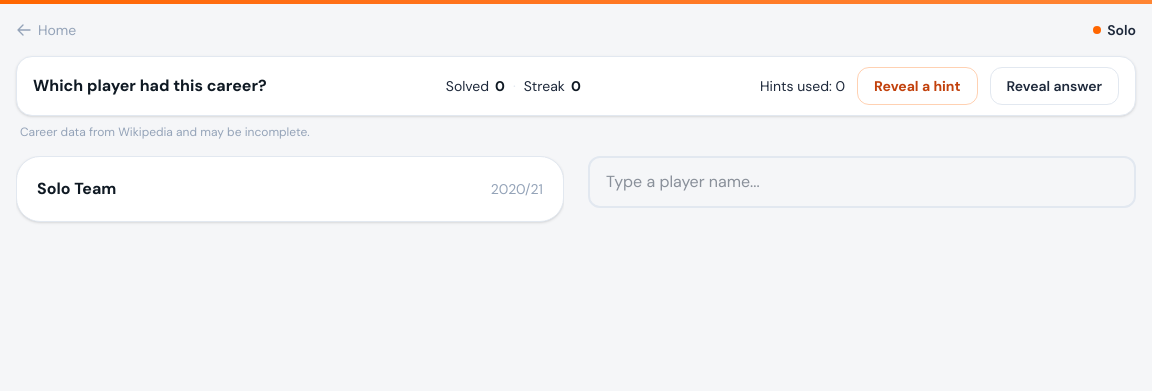
Test case: CareerQuizBoard multiplayer reveals › clears the solo wrong-guess banner when the answer is revealed
Type "Solo Miss" into the field with placeholder "Type a player name..." at (862, 182), box [588,156,1136,208]
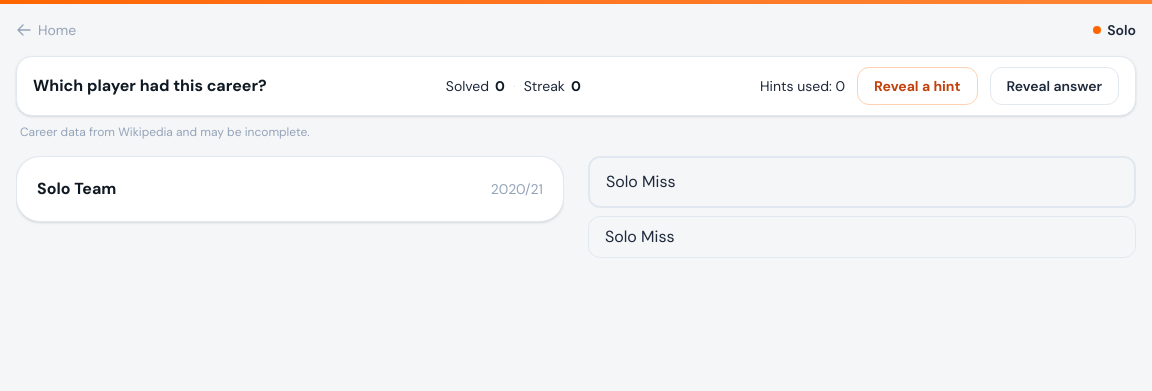
Click the button "Solo Miss" at (640, 236), box [589,217,1135,257]
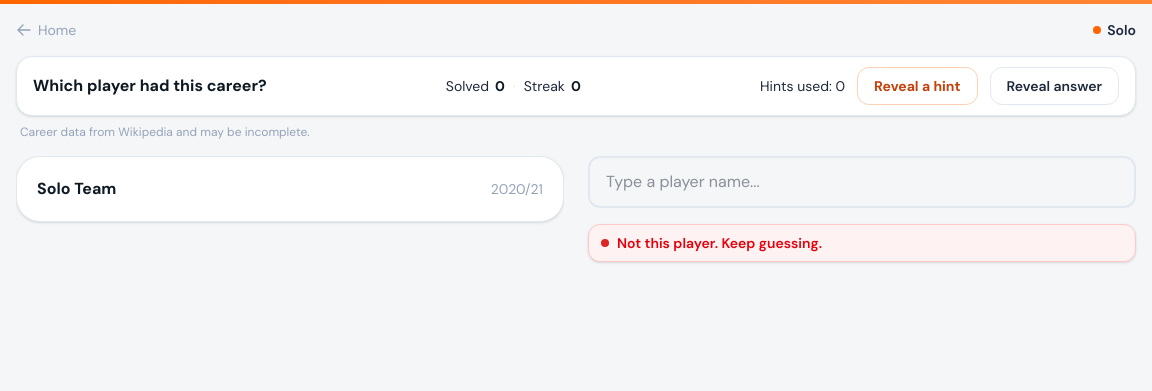
Now the text "Not this player. Keep guessing." is shown, box [617,233,822,253]
Click the button "Reveal answer" at (1054, 86), box [990,67,1119,105]
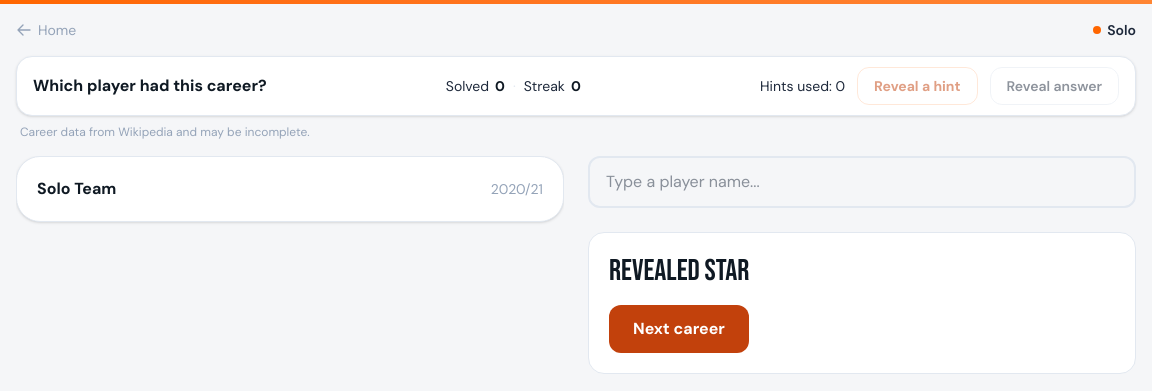
Now the heading "Revealed Star" is shown, box [609,253,749,289]
Now the text "Not this player. Keep guessing." is gone
Now the message with test id "career-feedback-message" is gone
